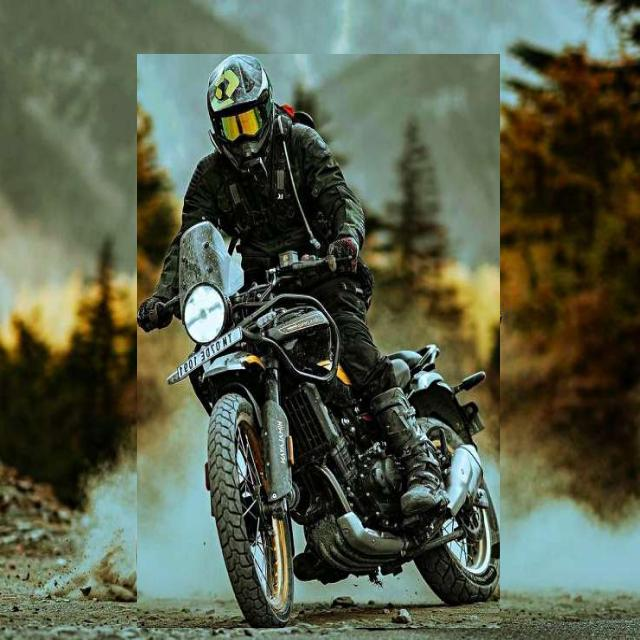motorcycle: (138, 55, 500, 628)
